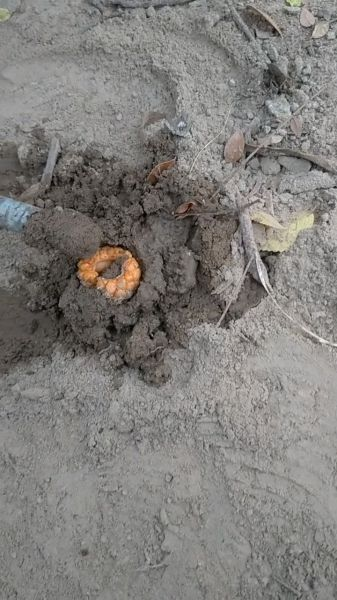eggs: (67, 238, 148, 309)
